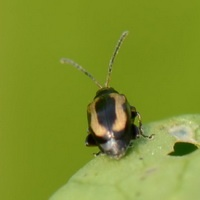insect: (60, 31, 152, 158)
